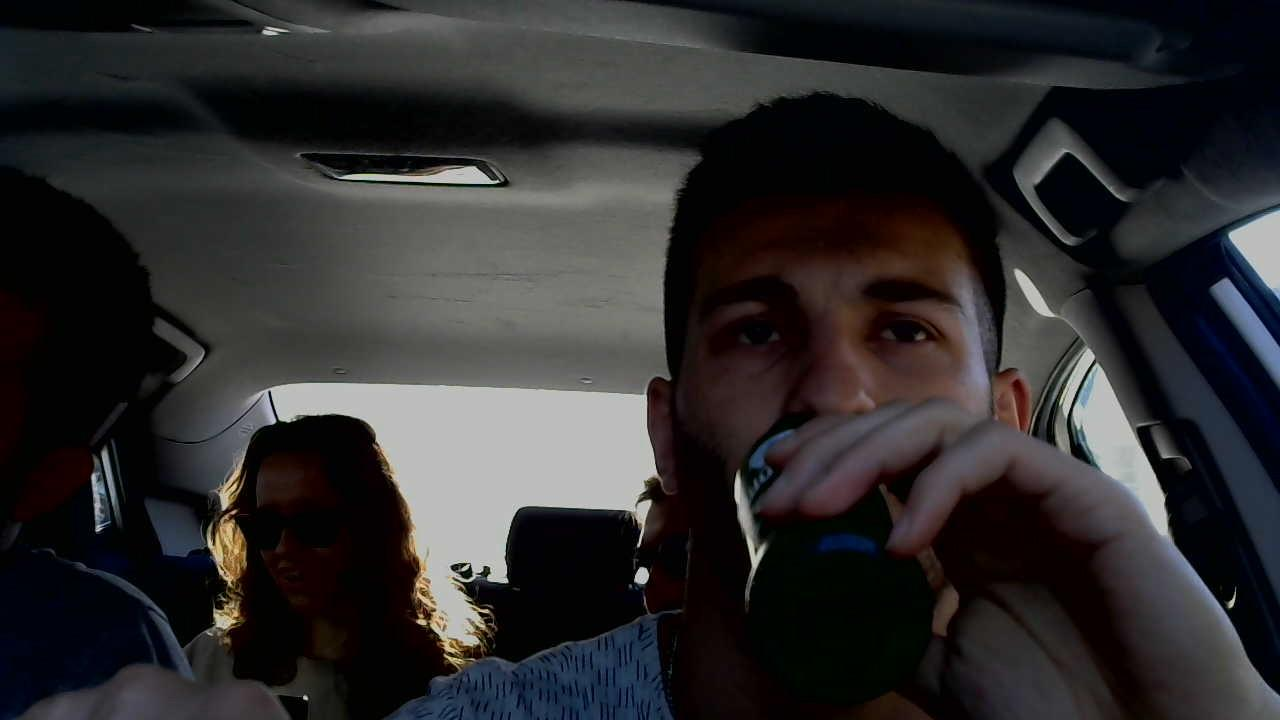Drinking: (728, 410, 944, 710)
